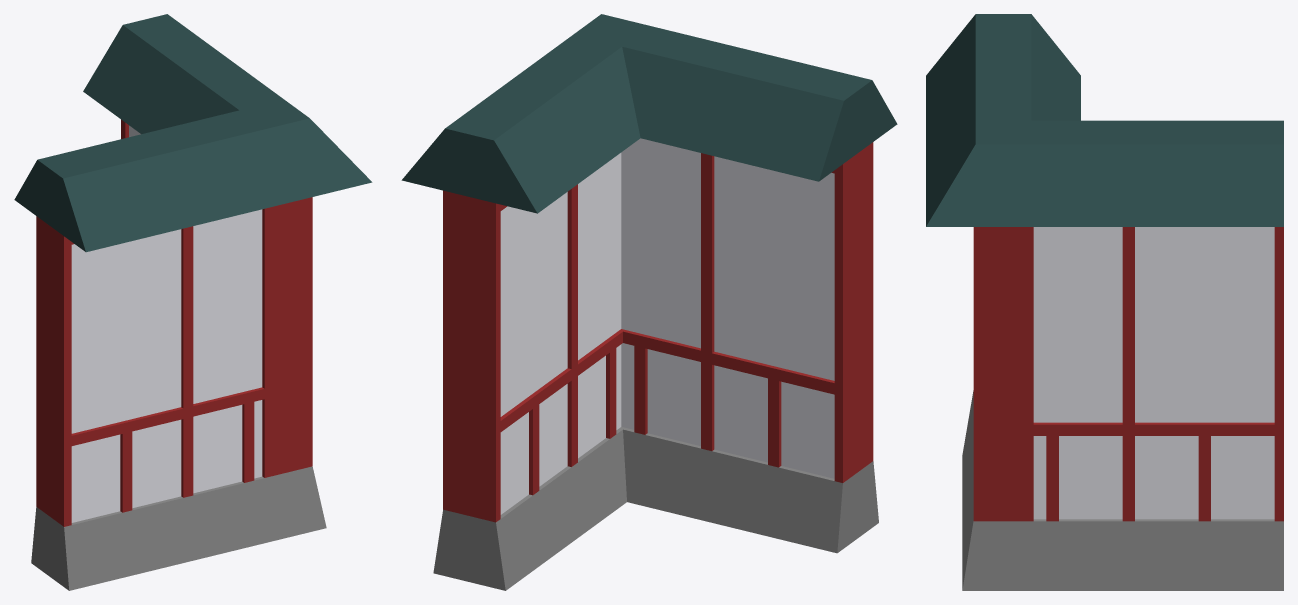
Rendered from Asian_Prop_Building_Fence_Wall_Framed_Corner_02.FBX.
3 views of the same model, side by side, from view 1: azimuth 30°, elevation 25°; view 2: azimuth 150°, elevation 25°; view 3: azimuth 270°, elevation 25° (orthographic). The views are drawn at different scales.
Parts seen in each view (by area): view 1: Asian_Prop_Building_Fence_Wall_Framed_Corner_02; view 2: Asian_Prop_Building_Fence_Wall_Framed_Corner_02; view 3: Asian_Prop_Building_Fence_Wall_Framed_Corner_02.
Boxes of the visible parts, x1=… form: Asian_Prop_Building_Fence_Wall_Framed_Corner_02: x1=14, y1=14, x2=372, y2=590; Asian_Prop_Building_Fence_Wall_Framed_Corner_02: x1=401, y1=14, x2=897, y2=590; Asian_Prop_Building_Fence_Wall_Framed_Corner_02: x1=926, y1=14, x2=1283, y2=590.
Bounding box in the file's own units: 2979 × 4051 × 2979.
